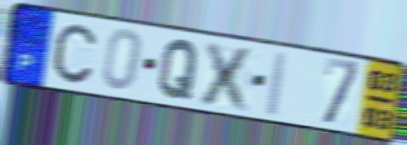0: (98, 27, 145, 95)
7: (322, 55, 361, 129)
C: (51, 22, 99, 86)
I: (262, 48, 292, 119)
Q: (156, 37, 202, 102)
X: (195, 39, 259, 115)
